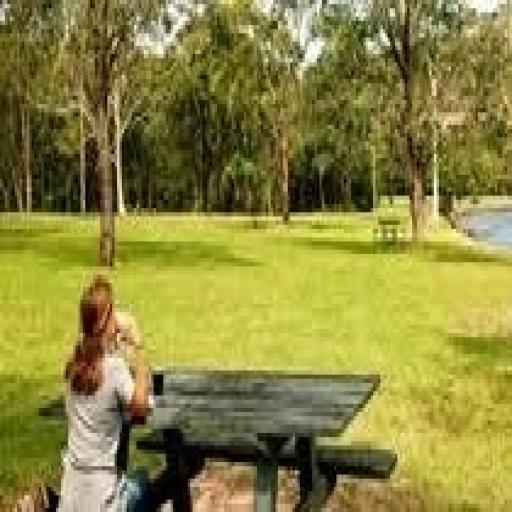sitting: (56, 270, 156, 508)
